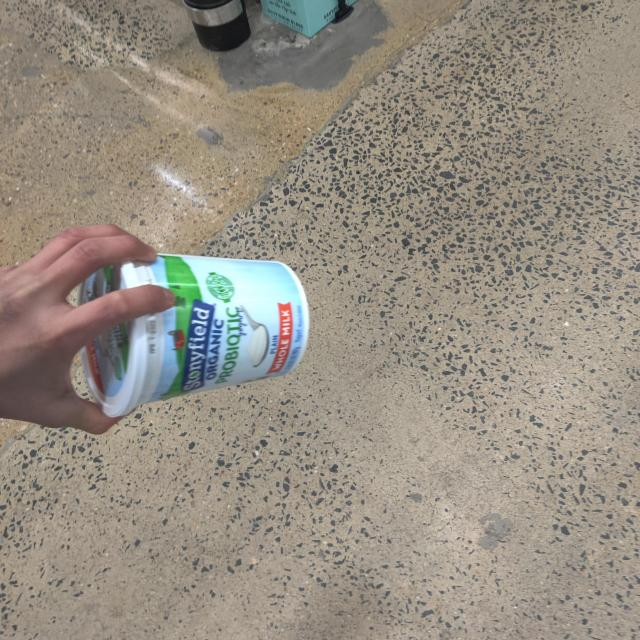Yogurt: (69, 243, 339, 414)
